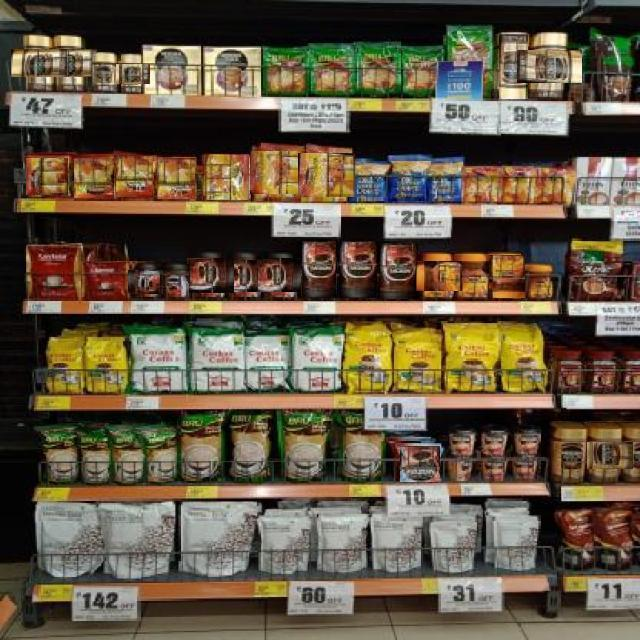Coffee: (299, 152, 355, 197), (251, 150, 305, 194), (379, 242, 418, 299), (339, 240, 377, 298), (516, 50, 582, 83), (301, 240, 336, 298), (205, 154, 249, 200), (498, 33, 528, 99), (73, 157, 114, 198), (557, 429, 587, 484), (187, 258, 234, 293), (488, 254, 525, 298), (26, 157, 68, 195), (42, 48, 97, 77), (11, 49, 67, 77), (157, 158, 195, 199), (116, 155, 153, 197), (399, 445, 440, 482), (579, 441, 633, 469), (256, 259, 301, 292), (221, 260, 267, 292), (456, 253, 488, 298), (416, 260, 462, 291), (92, 53, 116, 92), (163, 264, 189, 298), (128, 269, 163, 294), (527, 266, 554, 298), (111, 64, 150, 84)
